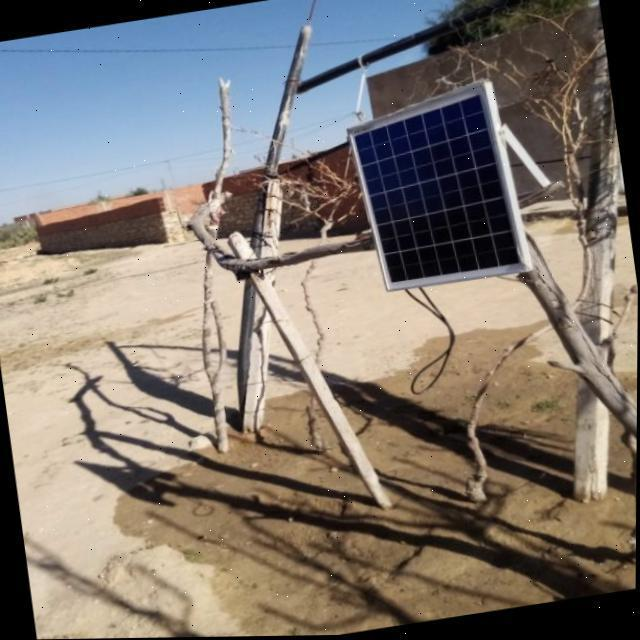Normal Solar Panel: (342, 80, 530, 298)
